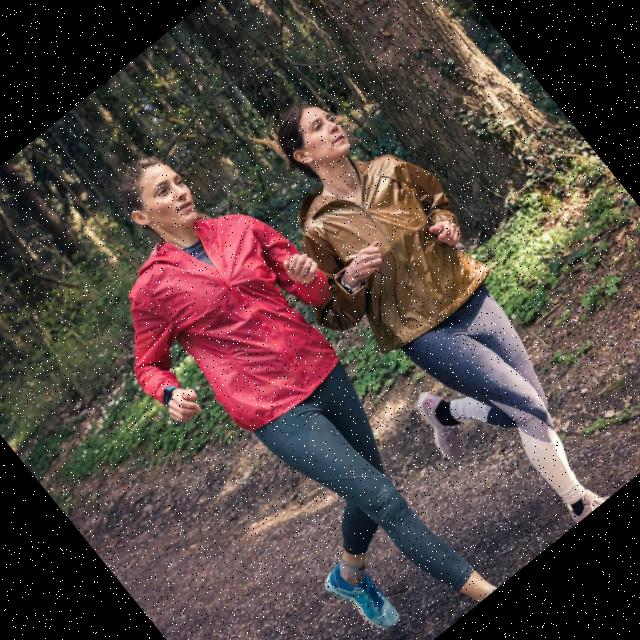Person: (25, 109, 548, 640), (202, 63, 640, 570)
